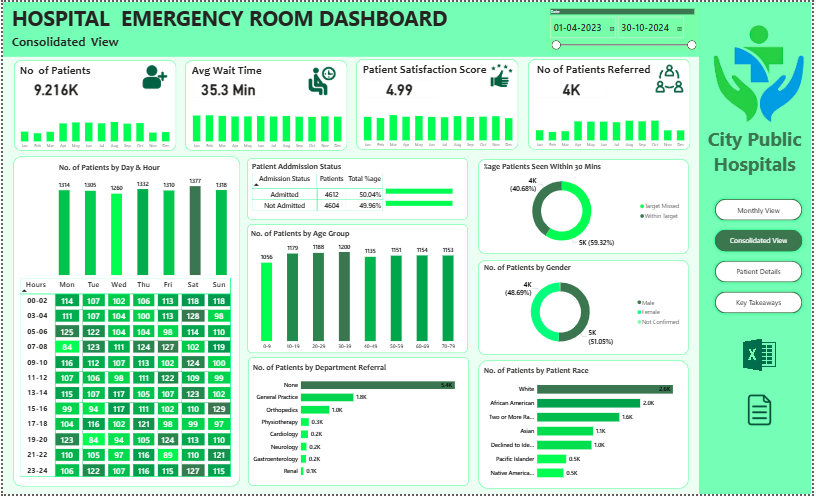

Layout of this report page (visuals, bound fields, positions):
{"tool":"powerbi","page":{"name":"Consolidated View","canvas":[2300,1400],"ordinal":1},"visuals":[{"type":"shape","box":[1980.5,0,318.7,1400],"z":0},{"type":"shape","box":[1492.1,163.8,462.2,258.7],"z":0,"group":"g1"},{"type":"shape","box":[30.7,164.6,462.2,258.7],"z":0,"group":"g8"},{"type":"pageNavigator","box":[2020,550,265,345],"z":0,"group":"g9"},{"type":"shape","box":[0,0,1980.9,156.4],"z":1000},{"type":"image","box":[1995,25,305,362.5],"z":1000,"group":"g9"},{"type":"group","id":"g1","title":"Group 1","box":[1492.1,163.8,462.2,258.7],"z":1000,"group":"g8"},{"type":"cardVisual","fields":{"Data":["Hospital ER_Data.Satisfaction Score"]},"box":[1006.6,204,239.6,85.6],"z":1000,"group":"g2"},{"type":"cardVisual","fields":{"Data":["Hospital ER_Data.NO. of Patients Referred"]},"box":[1493.7,205.1,239.6,85.6],"z":1000,"group":"g1"},{"type":"shape","box":[1005,162.7,462.2,258.7],"z":2000,"group":"g8"},{"type":"image","box":[810.5,165.7,148.6,118.6],"z":2000},{"type":"textbox","box":[1018.7,167.9,412.6,56.9],"z":2000,"group":"g2"},{"type":"textbox","box":[1513.2,170.7,341.1,55.6],"z":2000,"group":"g1"},{"type":"textbox","box":[1987.5,347.5,305,152.5],"z":2000,"group":"g9"},{"type":"shape","box":[517.8,164.5,462.2,258.7],"z":3000,"group":"g8"},{"type":"image","box":[1339,187.4,97.1,80],"z":3000},{"type":"cardVisual","fields":{"Data":["Hospital ER_Data.No. of Patients"]},"box":[32.3,206,239.6,85.6],"z":3000,"group":"g4"},{"type":"columnChart","fields":{"Category":["Date Table.Month Name"],"Y":["Hospital ER_Data.Satisfaction Score"]},"box":[1006.4,298.8,462.5,125],"z":3000,"group":"g2"},{"type":"textbox","box":[0,0,1289,105.3],"z":4000},{"type":"group","id":"g2","title":"Group 2","box":[1006.4,167.9,462.5,255.9],"z":4000,"group":"g8"},{"type":"textbox","box":[44.4,171,259.3,55.7],"z":4000,"group":"g4"},{"type":"image","box":[1813.3,187.4,107.1,94.3],"z":5000},{"type":"columnChart","fields":{"Category":["Date Table.Month Name"],"Y":["Hospital ER_Data.NO. of Patients Referred"]},"box":[1495.1,298.3,462.2,125],"z":5000,"group":"g8"},{"type":"textbox","box":[19.9,85.4,409.8,71.1],"z":6000},{"type":"group","id":"g3","title":"Group 8","box":[519.3,170.8,462.5,254.8],"z":6000,"group":"g8"},{"type":"columnChart","fields":{"Category":["Date Table.Month Name"],"Y":["Hospital ER_Data.No. of Patients"]},"box":[32.1,300.8,462.5,125],"z":6000,"group":"g4"},{"type":"group","id":"g4","title":"Group 9","box":[32.1,171,462.5,254.8],"z":7000,"group":"g8"},{"type":"group","id":"g5","title":"Group 4","box":[1350.4,447.7,600.4,939],"z":7000},{"type":"group","id":"g6","title":"Group 5","box":[694.3,443.9,648.8,933.3],"z":8000},{"type":"cardVisual","fields":{"Data":["Hospital ER_Data.Avg Wait Time"]},"box":[519.5,205.8,239.6,85.6],"z":9000,"group":"g3"},{"type":"group","id":"g7","title":"Group 7","box":[29.1,438.2,646.4,940.9],"z":9000},{"type":"group","id":"g8","title":"Group 10","box":[30.7,162.7,1926.6,263.1],"z":10000},{"type":"slicer","fields":{"Values":["Date Table.Date"]},"box":[1545.1,14.2,435.4,125.2],"z":11000},{"type":"image","box":[382.5,171.2,95,90],"z":12000},{"type":"image","box":[827.5,167.5,148.8,118.8],"z":13000},{"type":"textbox","box":[531.6,170.8,259.3,55.7],"z":13000,"group":"g3"},{"type":"image","box":[1371.2,173.8,97.5,80],"z":14000},{"type":"columnChart","fields":{"Category":["Date Table.Month Name"],"Y":["Avg(Hospital ER_Data.Patient Waittime)"]},"box":[519.3,300.6,462.5,125],"z":14000,"group":"g3"},{"type":"image","box":[1843.8,172.5,106.2,95],"z":15000},{"type":"group","id":"g9","title":"Group 11","box":[1987.5,25,312.5,870],"z":16000},{"type":"shape","box":[694.3,443.9,628.8,176.2],"z":16000,"group":"g6"},{"type":"image","box":[2087.5,932.5,127.5,145],"z":16001},{"type":"image","box":[2094.3,1104.3,117.1,117.1],"z":16002},{"type":"shape","box":[29.1,438.2,646.4,940.9],"z":19000,"group":"g7"},{"type":"pivotTable","title":"Patient Addmission Status","fields":{"Rows":["Hospital ER_Data.Admission Status"],"Values":["Hospital ER_Data.No. of Patients1","Hospital ER_Data.No. of Patients"]},"box":[704,452,396.5,154.4],"z":20000,"group":"g10"},{"type":"shape","box":[694.3,632.7,628.8,368],"z":20000,"group":"g6"},{"type":"barChart","fields":{"Category":["Hospital ER_Data.Admission Status"],"Y":["Hospital ER_Data.No. of Patients"]},"box":[1085.6,500.8,257.3,104.5],"z":21000,"group":"g10"},{"type":"clusteredColumnChart","fields":{"Category":["Hospital ER_Data.Age Group"],"Y":["Hospital ER_Data.No. of Patients"]},"box":[698.8,644.4,618.6,355.7],"z":21000,"group":"g6"},{"type":"pivotTable","fields":{"Rows":["Hospital ER_Data.Wait Time Interval"],"Columns":["Date Table.Day"],"Values":["Hospital ER_Data.No. of Patients"]},"box":[43.6,779.1,615.5,586.4],"z":22000,"group":"g7"},{"type":"shape","box":[697.3,1011.6,628.6,367.1],"z":22000,"group":"g6"},{"type":"columnChart","title":"No. of Patients by Day & Hour","fields":{"Category":["Date Table.Day"],"Y":["Hospital ER_Data.No. of Patients"]},"box":[155.4,456.2,490.8,327.7],"z":23000,"group":"g7"},{"type":"clusteredBarChart","fields":{"Category":["Hospital ER_Data.Department Referral"],"Y":["Hospital ER_Data.No. of Patients"]},"box":[704.5,1024.4,612.9,341.4],"z":23000,"group":"g6"},{"type":"shape","box":[1350.4,447.7,600.4,270.3],"z":24000,"group":"g5"},{"type":"group","id":"g10","title":"Group 3","box":[704,452,638.9,154.4],"z":24000,"group":"g6"},{"type":"donutChart","title":"%age Patients Seen Within 30 Mins","fields":{"Category":["Hospital ER_Data.Wait Time Status"],"Y":["Hospital ER_Data.No. of Patients"]},"box":[1361.8,453.4,574.8,256.1],"z":25000,"group":"g5"},{"type":"shape","box":[1350.4,735.1,600.4,270.3],"z":26000,"group":"g5"},{"type":"donutChart","title":"No. of  Patients by Gender","fields":{"Y":["Hospital ER_Data.No. of Patients"],"Category":["Hospital ER_Data.Patient Gender"]},"box":[1361.8,740.8,574.8,256.1],"z":27000,"group":"g5"},{"type":"shape","box":[1350.4,1019.7,600.4,367.1],"z":28000,"group":"g5"},{"type":"clusteredBarChart","fields":{"Y":["Hospital ER_Data.No. of Patients"],"Category":["Hospital ER_Data.Patient Race"]},"box":[1361.8,1033.8,577.1,341.4],"z":29000,"group":"g5"}]}

Visuals, with their boxes in screenshot pixels (x1, y1, x2, y2), scaled from the page's 2300x1400 canvas onto the 816x496 screenshot:
shape: (x1=703, y1=0, x2=815, y2=495)
shape: (x1=529, y1=58, x2=693, y2=150)
shape: (x1=11, y1=58, x2=175, y2=150)
pageNavigator: (x1=717, y1=195, x2=811, y2=317)
shape: (x1=0, y1=0, x2=703, y2=55)
image: (x1=708, y1=9, x2=815, y2=137)
"Group 1" group: (x1=529, y1=58, x2=693, y2=150)
cardVisual - Hospital ER_Data.Satisfaction Score: (x1=357, y1=72, x2=442, y2=103)
cardVisual - Hospital ER_Data.NO. of Patients Referred: (x1=530, y1=73, x2=615, y2=103)
shape: (x1=357, y1=58, x2=521, y2=149)
image: (x1=288, y1=59, x2=340, y2=101)
textbox: (x1=361, y1=59, x2=508, y2=80)
textbox: (x1=537, y1=60, x2=658, y2=80)
textbox: (x1=705, y1=123, x2=813, y2=177)
shape: (x1=184, y1=58, x2=348, y2=150)
image: (x1=475, y1=66, x2=510, y2=95)
cardVisual - Hospital ER_Data.No. of Patients: (x1=11, y1=73, x2=96, y2=103)
columnChart - Date Table.Month Name x Hospital ER_Data.Satisfaction Score: (x1=357, y1=106, x2=521, y2=150)
textbox: (x1=0, y1=0, x2=457, y2=37)
"Group 2" group: (x1=357, y1=59, x2=521, y2=150)
textbox: (x1=16, y1=61, x2=108, y2=80)
image: (x1=643, y1=66, x2=681, y2=100)
columnChart - Date Table.Month Name x Hospital ER_Data.NO. of Patients Referred: (x1=530, y1=106, x2=694, y2=150)
textbox: (x1=7, y1=30, x2=152, y2=55)
"Group 8" group: (x1=184, y1=61, x2=348, y2=151)
columnChart - Date Table.Month Name x Hospital ER_Data.No. of Patients: (x1=11, y1=107, x2=175, y2=151)
"Group 9" group: (x1=11, y1=61, x2=175, y2=151)
"Group 4" group: (x1=479, y1=159, x2=692, y2=491)
"Group 5" group: (x1=246, y1=157, x2=477, y2=488)
cardVisual - Hospital ER_Data.Avg Wait Time: (x1=184, y1=73, x2=269, y2=103)
"Group 7" group: (x1=10, y1=155, x2=240, y2=489)
"Group 10" group: (x1=11, y1=58, x2=694, y2=151)
slicer - Date Table.Date: (x1=548, y1=5, x2=703, y2=49)
image: (x1=136, y1=61, x2=169, y2=93)
image: (x1=294, y1=59, x2=346, y2=101)
textbox: (x1=189, y1=61, x2=281, y2=80)
image: (x1=486, y1=62, x2=521, y2=90)
columnChart - Date Table.Month Name x Avg(Hospital ER_Data.Patient Waittime): (x1=184, y1=106, x2=348, y2=151)
image: (x1=654, y1=61, x2=692, y2=95)
"Group 11" group: (x1=705, y1=9, x2=815, y2=317)
shape: (x1=246, y1=157, x2=469, y2=220)
image: (x1=741, y1=330, x2=786, y2=382)
image: (x1=743, y1=391, x2=785, y2=433)
shape: (x1=10, y1=155, x2=240, y2=489)
"Patient Addmission Status" pivotTable: (x1=250, y1=160, x2=390, y2=215)
shape: (x1=246, y1=224, x2=469, y2=355)
barChart - Hospital ER_Data.Admission Status x Hospital ER_Data.No. of Patients: (x1=385, y1=177, x2=476, y2=214)
clusteredColumnChart - Hospital ER_Data.Age Group x Hospital ER_Data.No. of Patients: (x1=248, y1=228, x2=467, y2=354)
pivotTable - Hospital ER_Data.Wait Time Interval x Date Table.Day: (x1=15, y1=276, x2=234, y2=484)
shape: (x1=247, y1=358, x2=470, y2=488)
"No. of Patients by Day & Hour" columnChart: (x1=55, y1=162, x2=229, y2=278)
clusteredBarChart - Hospital ER_Data.Department Referral x Hospital ER_Data.No. of Patients: (x1=250, y1=363, x2=467, y2=484)
shape: (x1=479, y1=159, x2=692, y2=254)
"Group 3" group: (x1=250, y1=160, x2=476, y2=215)
"%age Patients Seen Within 30 Mins" donutChart: (x1=483, y1=161, x2=687, y2=251)
shape: (x1=479, y1=260, x2=692, y2=356)
"No. of  Patients by Gender" donutChart: (x1=483, y1=262, x2=687, y2=353)
shape: (x1=479, y1=361, x2=692, y2=491)
clusteredBarChart - Hospital ER_Data.No. of Patients x Hospital ER_Data.Patient Race: (x1=483, y1=366, x2=688, y2=487)
